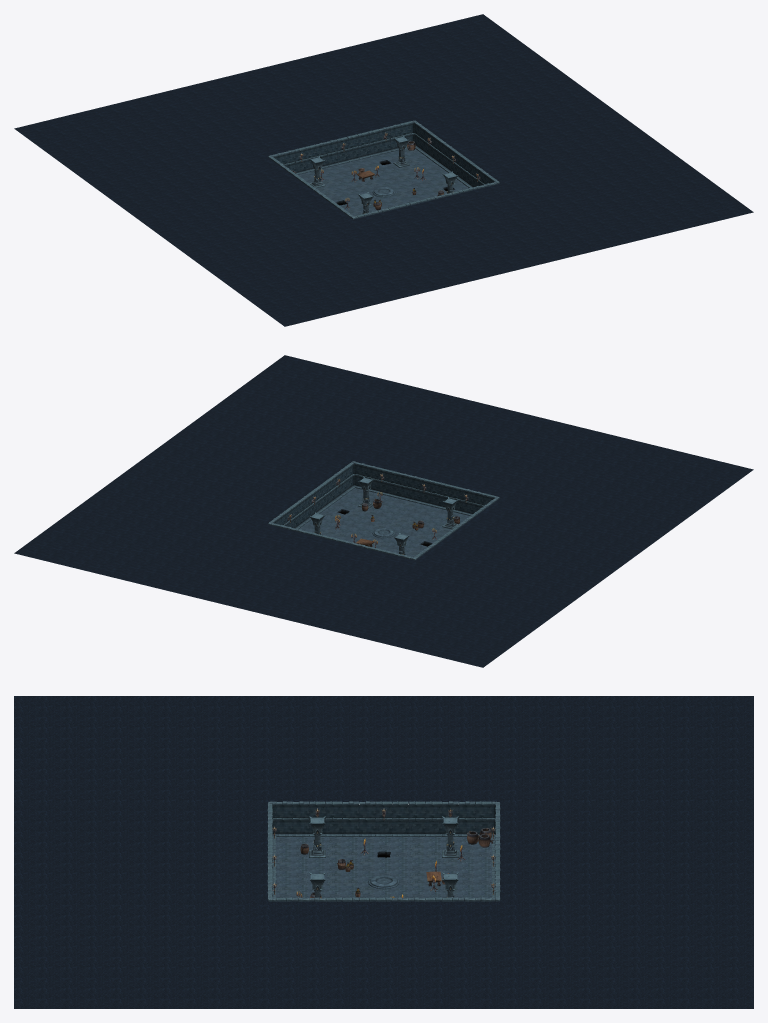
Rendered from asset.dae.
3 views of the same model, one above another, from view 1: azimuth 30°, elevation 25°; view 2: azimuth 150°, elevation 25°; view 3: azimuth 270°, elevation 25° (orthographic). The views are drawn at different scales.
Visible parts, largest first — view 1: Ceiling_01, Walls_01, Walls_16, Walls_15, Walls_14, FloorTiles_05, Walls_02, FloorTiles_04; view 2: Ceiling_01, Walls_05, Walls_06, Walls_07, Walls_08, FloorTiles_05, FloorTiles_18, Walls_04; view 3: Ceiling_01, Walls_10, Walls_11, Walls_09, Walls_12, Walls_13, FloorTiles_09, FloorTiles_10, FloorTiles_18, FloorTiles_07, FloorTiles_21, FloorTiles_12 (+7 smaller).
Part boxes in pixels (left/top/right/bottom): Ceiling_01: left=14, top=14, right=753, bottom=326; Walls_01: left=389, top=120, right=429, bottom=155; Walls_16: left=357, top=126, right=391, bottom=159; Walls_15: left=326, top=134, right=360, bottom=167; Walls_14: left=294, top=142, right=328, bottom=174; FloorTiles_05: left=391, top=174, right=439, bottom=195; Walls_02: left=425, top=131, right=448, bottom=168; FloorTiles_04: left=373, top=163, right=421, bottom=181; Ceiling_01: left=14, top=355, right=753, bottom=667; Walls_05: left=338, top=461, right=378, bottom=496; Walls_06: left=376, top=467, right=410, bottom=500; Walls_07: left=407, top=475, right=441, bottom=508; Walls_08: left=439, top=483, right=473, bottom=515; FloorTiles_05: left=328, top=515, right=376, bottom=536; FloorTiles_18: left=378, top=509, right=426, bottom=530; Walls_04: left=319, top=472, right=342, bottom=509; Ceiling_01: left=14, top=696, right=753, bottom=1008; Walls_10: left=359, top=801, right=408, bottom=836; Walls_11: left=409, top=801, right=458, bottom=836; Walls_09: left=309, top=801, right=358, bottom=836; Walls_12: left=267, top=801, right=309, bottom=849; Walls_13: left=458, top=801, right=500, bottom=850; FloorTiles_09: left=359, top=851, right=408, bottom=871; FloorTiles_10: left=409, top=851, right=458, bottom=871; FloorTiles_18: left=309, top=872, right=358, bottom=893; FloorTiles_07: left=359, top=872, right=408, bottom=893; FloorTiles_21: left=276, top=872, right=309, bottom=893; FloorTiles_12: left=458, top=872, right=491, bottom=893.
Bounding box in the file's own units: 4454 × 4454 × 404.
